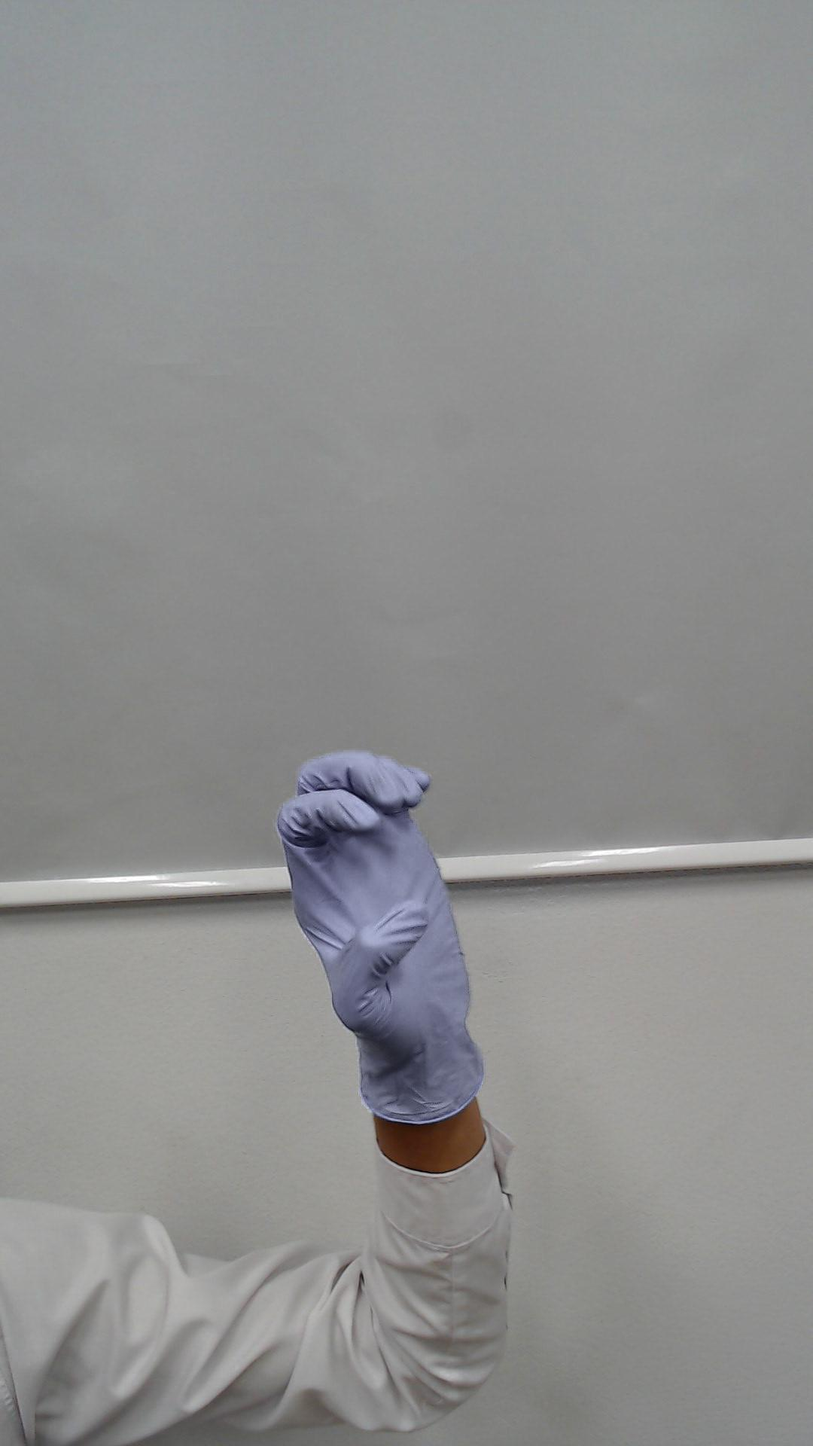gloves: (265, 723, 516, 1092)
